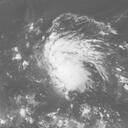cyclone: (41, 32, 94, 96)
